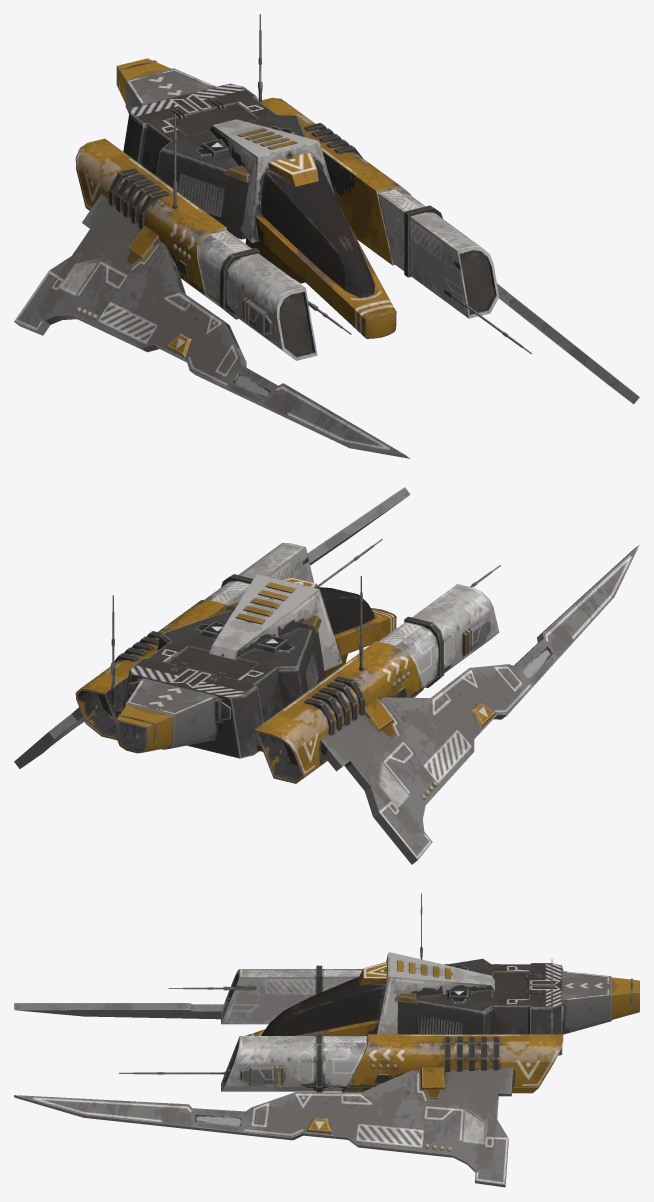
The model's file is Striker.glb.
3 renders of one model, top to bottom at view 1: azimuth 30°, elevation 25°; view 2: azimuth 150°, elevation 25°; view 3: azimuth 270°, elevation 25°, orthographic. The views are drawn at different scales.
Visible parts, largest first — view 1: Striker; view 2: Striker; view 3: Striker.
Part boxes in pixels (bbox=[...]): Striker: bbox=[14, 14, 639, 458]; Striker: bbox=[14, 487, 639, 864]; Striker: bbox=[14, 893, 639, 1187].
Bounding box in the file's own units: 5.03 × 2.68 × 8.43.
Materials: 1 (1 with a texture image).
